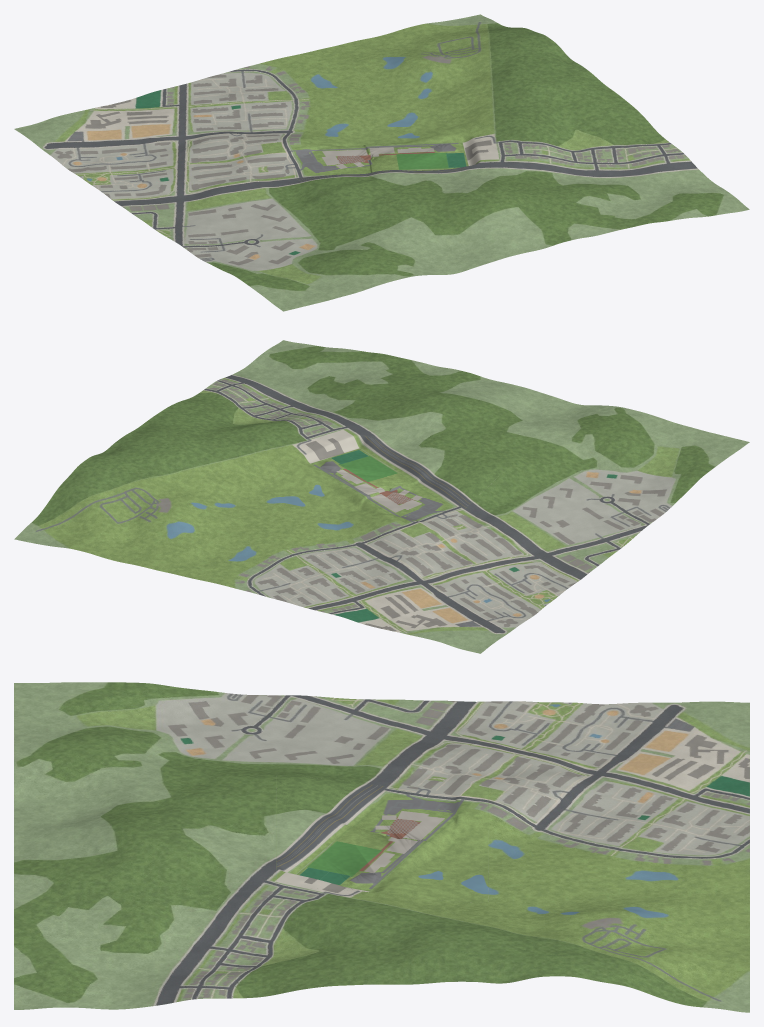
3 views of the same model, one above another, from view 1: azimuth 30°, elevation 25°; view 2: azimuth 150°, elevation 25°; view 3: azimuth 270°, elevation 25° (orthographic). The views are drawn at different scales.
Visible parts, largest first — view 1: ground-area, ground-school; view 2: ground-area, ground-school; view 3: ground-area, ground-school.
Boxes of the visible parts, left/top/right/bottom form: ground-area: left=14, top=14, right=749, bottom=311; ground-school: left=258, top=111, right=506, bottom=200; ground-area: left=14, top=340, right=749, bottom=653; ground-school: left=256, top=428, right=505, bottom=535; ground-area: left=14, top=682, right=749, bottom=1012; ground-school: left=276, top=775, right=488, bottom=902.
Bounding box in the file's own units: 1088 × 67.85 × 1088.
Materials: 2 (2 with a texture image).
